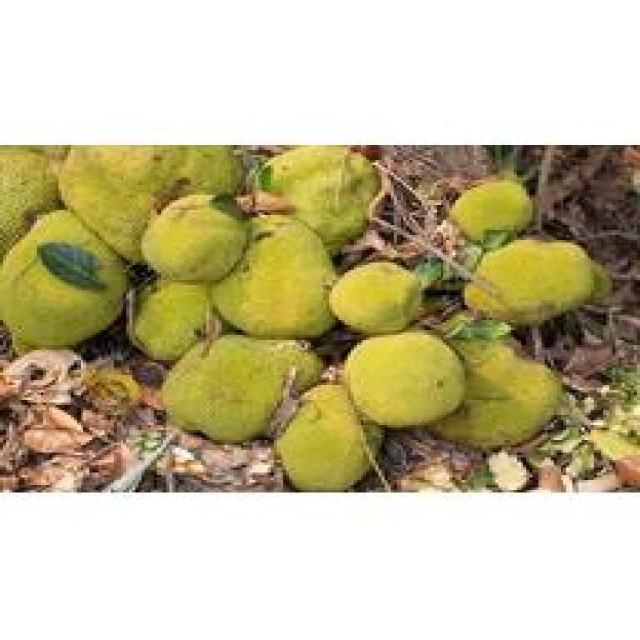Fruit: (0, 147, 145, 375), (317, 310, 483, 455), (449, 220, 606, 345)
